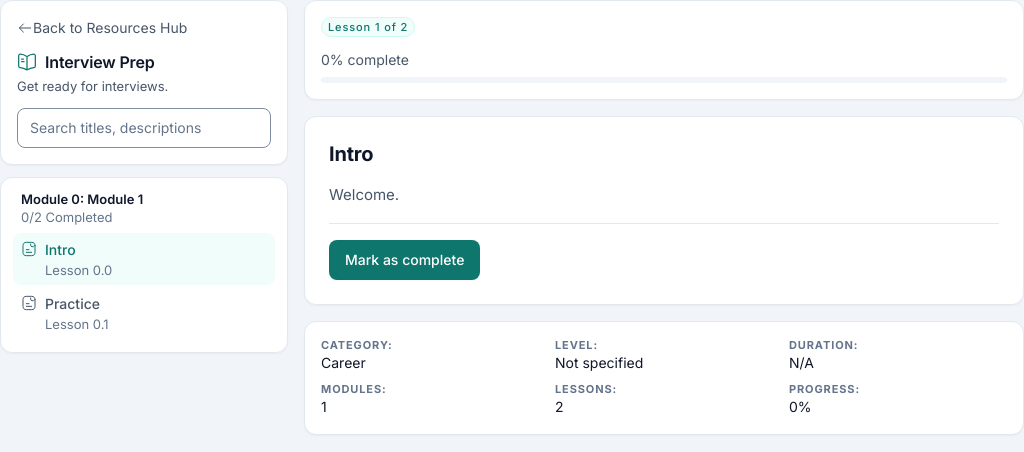
ResourceDetailPage › shows the first lesson, and marking it complete advances to the next
Expected: the text "Welcome." is shown, [329,185,399,204]
Click the button "Mark as complete": (405,260) [329,240,480,280]
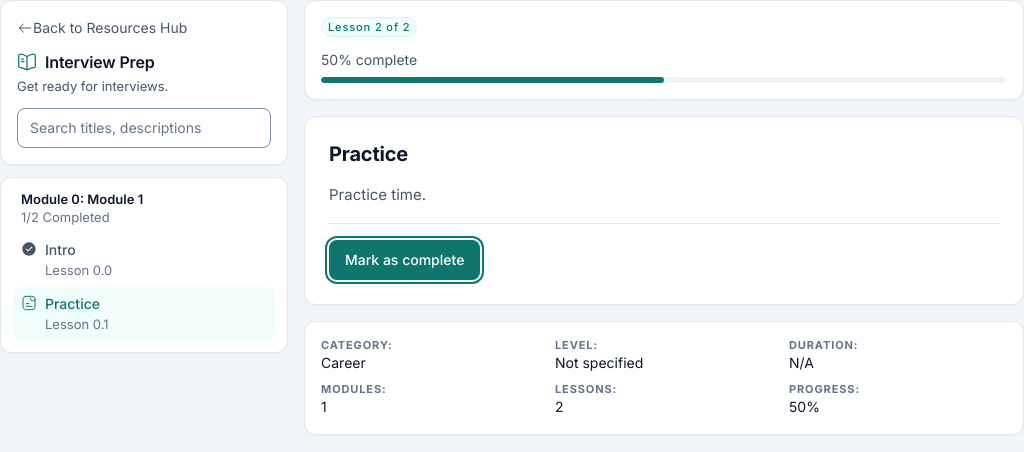
Expected: the text "Practice time." is shown, [329,185,426,204]
Expected: the text "50% complete" is shown, [321,49,417,71]
